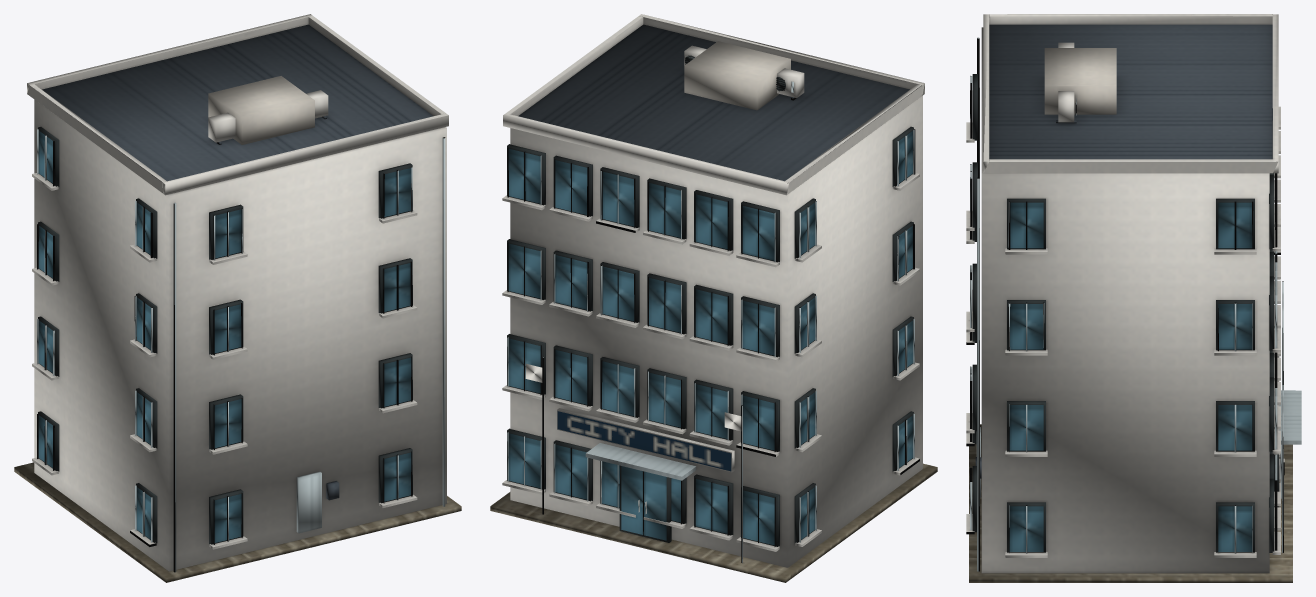
Rendered from public_008.lod1.obj.
3 renders of one model, left to right at view 1: azimuth 30°, elevation 25°; view 2: azimuth 150°, elevation 25°; view 3: azimuth 270°, elevation 25°, orthographic. The views are drawn at different scales.
Parts seen in each view (by area): view 1: public_008; view 2: public_008; view 3: public_008.
Boxes of the visible parts, x1,y1,x2,y2 form: public_008: [14, 14, 461, 582]; public_008: [490, 14, 937, 582]; public_008: [966, 14, 1301, 582].
Size of the model in its own units: 10.1 by 13.46 by 9.32.
Materials: 1 (1 with a texture image).
